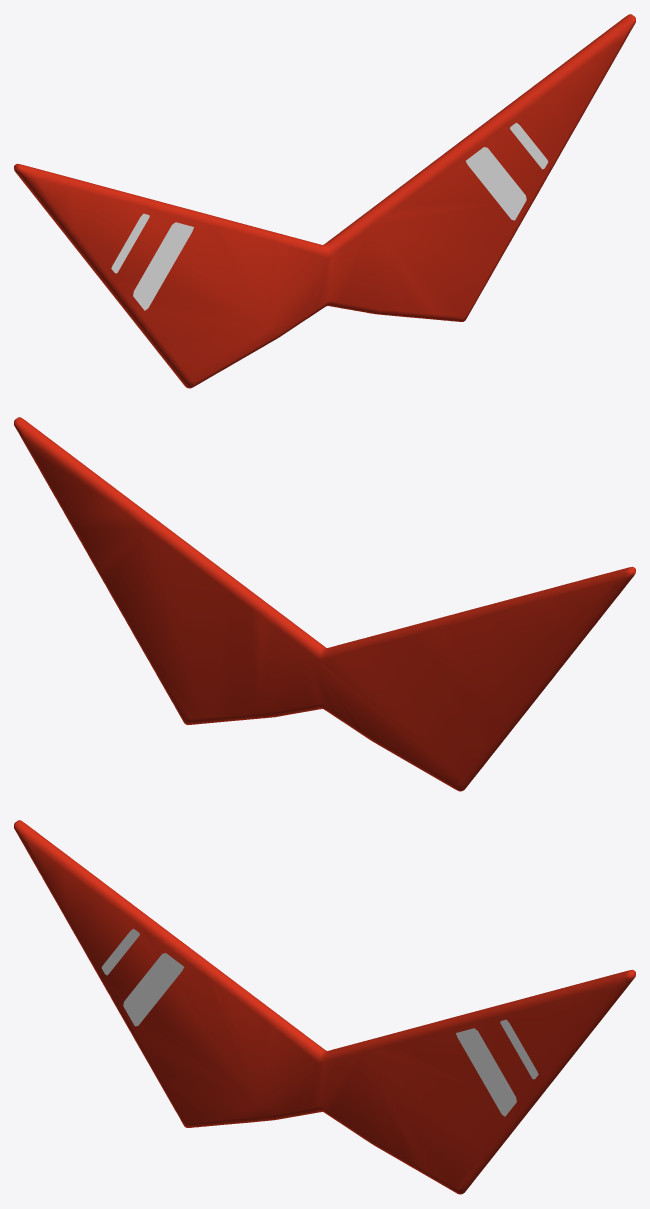
The model's file is kamina-glasses.glb.
The picture shows the model from 3 angles, top to bottom: view 1: azimuth 30°, elevation 25°; view 2: azimuth 150°, elevation 25°; view 3: azimuth 330°, elevation 25°; orthographic projection.
Visible parts, largest first — view 1: kamina_lens, kamina_glints; view 2: kamina_lens; view 3: kamina_lens, kamina_glints.
Part boxes in pixels (x1,y1,x2,y2): kamina_lens: [14, 14, 635, 388]; kamina_glints: [111, 122, 548, 310]; kamina_lens: [14, 417, 635, 791]; kamina_lens: [14, 820, 635, 1194]; kamina_glints: [101, 928, 538, 1116].
Size of the model in its own units: 1.82 by 0.7426 by 0.047.
